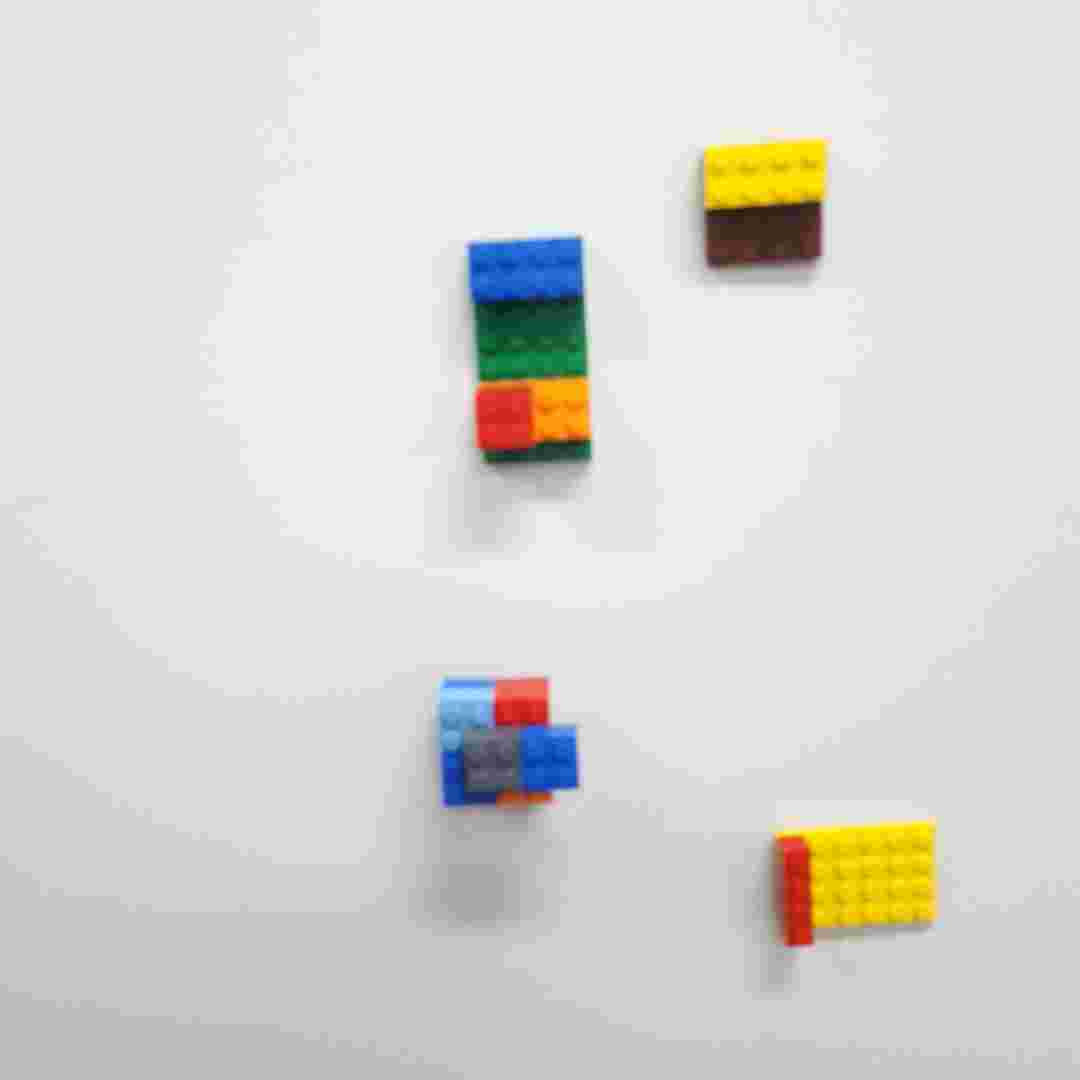LEGO: (454, 233, 601, 471), (769, 817, 949, 949), (431, 669, 583, 811), (694, 135, 829, 271)
